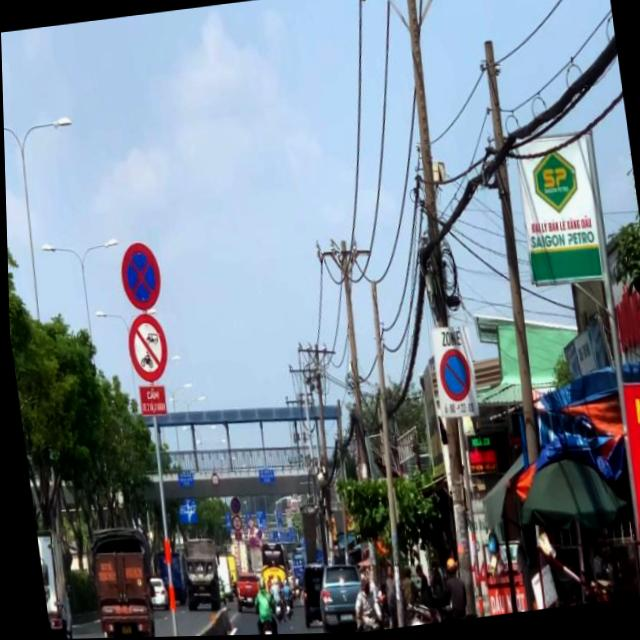Cam do xe: (433, 347, 471, 405)
Cam dung xe va do xe: (113, 237, 164, 315)
